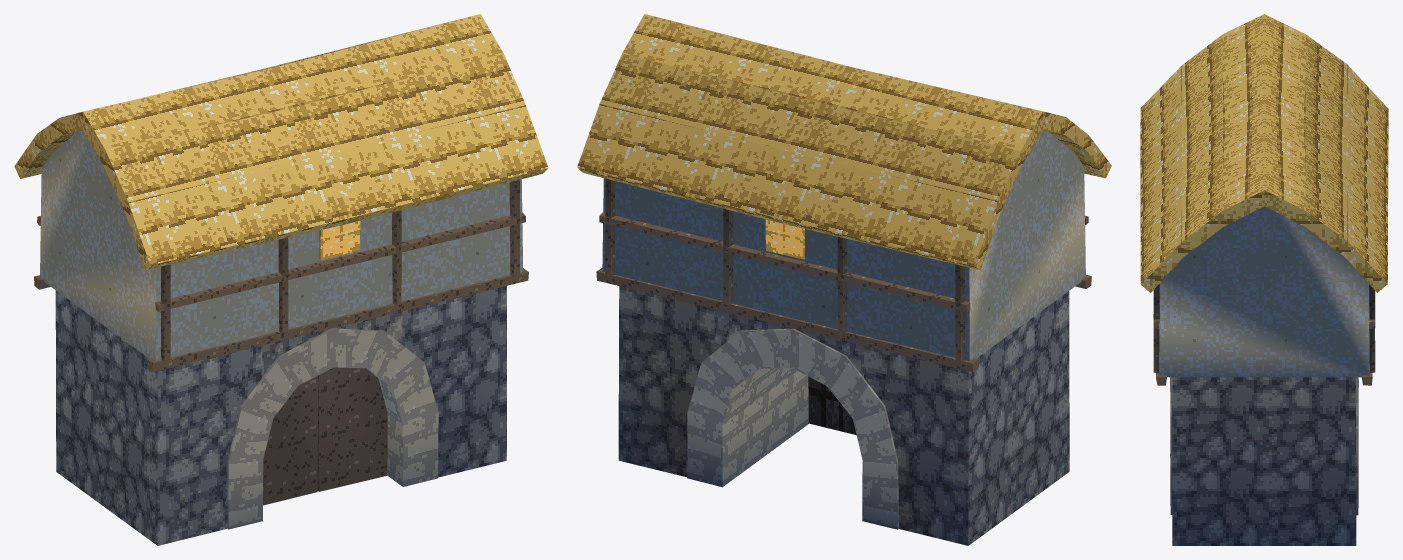
File: vlg.gatehouse.glb
The picture shows the model from 3 angles, left to right: view 1: azimuth 30°, elevation 25°; view 2: azimuth 150°, elevation 25°; view 3: azimuth 270°, elevation 25°; orthographic projection. The views are drawn at different scales.
Visible parts, largest first — view 1: kit_roof, kit_stonework, kit_walls, kit_fittings, kit_frame; view 2: kit_roof, kit_stonework, kit_walls, kit_frame, kit_fittings; view 3: kit_roof, kit_stonework, kit_walls, kit_frame.
Part boxes in pixels (<box>): kit_roof: <box>14,14,548,270</box>; kit_stonework: <box>55,286,506,545</box>; kit_walls: <box>40,130,523,361</box>; kit_fittings: <box>263,220,387,505</box>; kit_frame: <box>34,180,528,371</box>; kit_roof: <box>577,14,1111,270</box>; kit_stonework: <box>618,286,1069,545</box>; kit_walls: <box>602,130,1085,361</box>; kit_frame: <box>596,179,1091,371</box>; kit_fittings: <box>765,219,856,434</box>; kit_roof: <box>1140,14,1388,293</box>; kit_stonework: <box>1170,377,1358,545</box>; kit_walls: <box>1159,206,1369,377</box>; kit_frame: <box>1153,284,1375,385</box>.
Size of the model in its own units: 9.12 by 8.82 by 5.41.
Materials: 8 (8 with a texture image).
